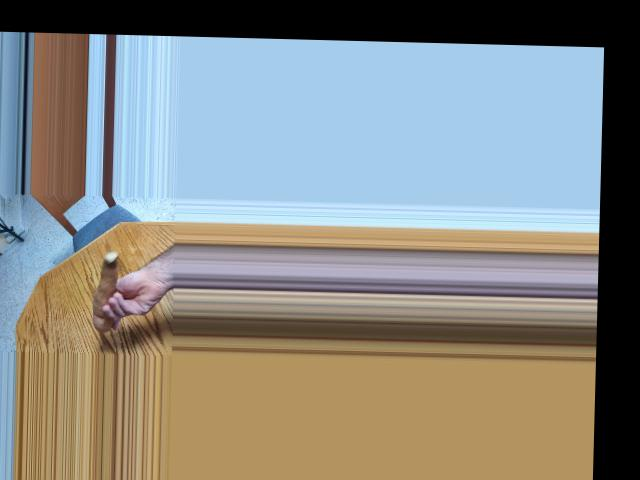sweet_potato: (89, 253, 126, 333)
